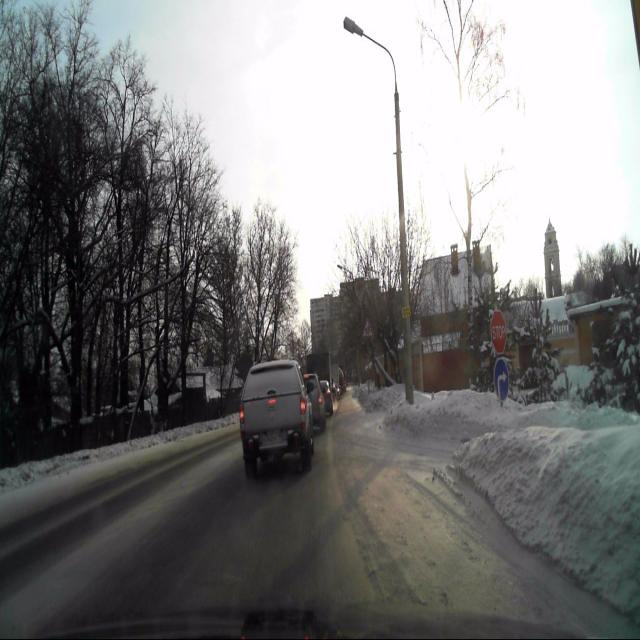road sign: (362, 319, 372, 338)
